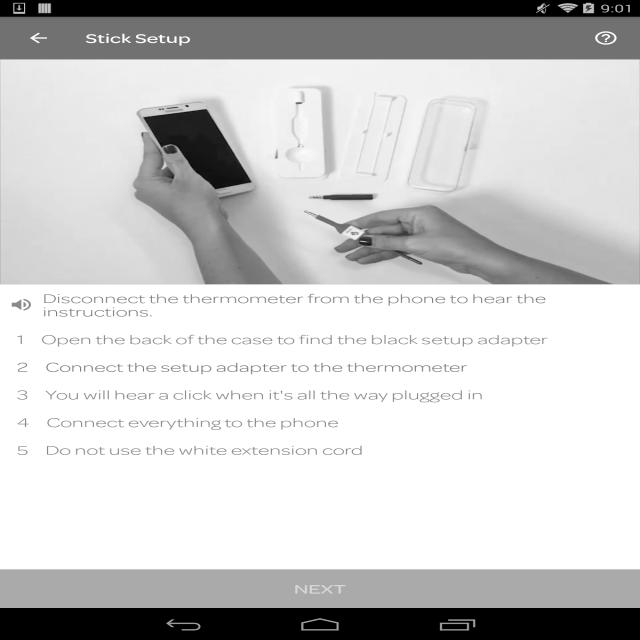Button: (0, 569, 640, 608)
ImageButton: (9, 17, 68, 59)
TextView: (9, 290, 632, 320), (41, 330, 623, 348), (45, 358, 623, 376), (45, 386, 623, 403), (46, 414, 623, 431), (45, 442, 623, 458), (86, 29, 190, 46), (580, 22, 632, 54), (17, 414, 29, 431), (17, 358, 28, 376), (17, 386, 28, 403), (17, 442, 28, 458), (17, 330, 24, 348)
